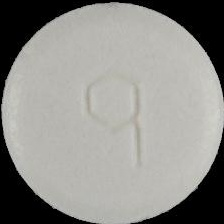0555-0066: (0, 0, 224, 224)
